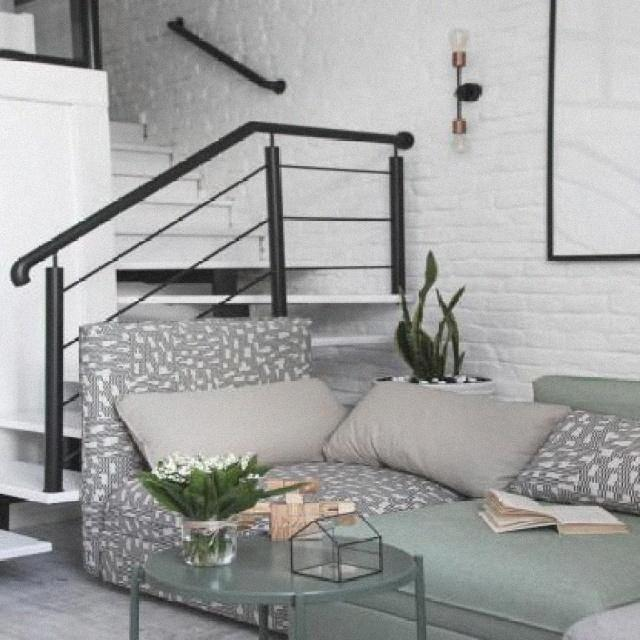stair: (2, 68, 446, 580)
